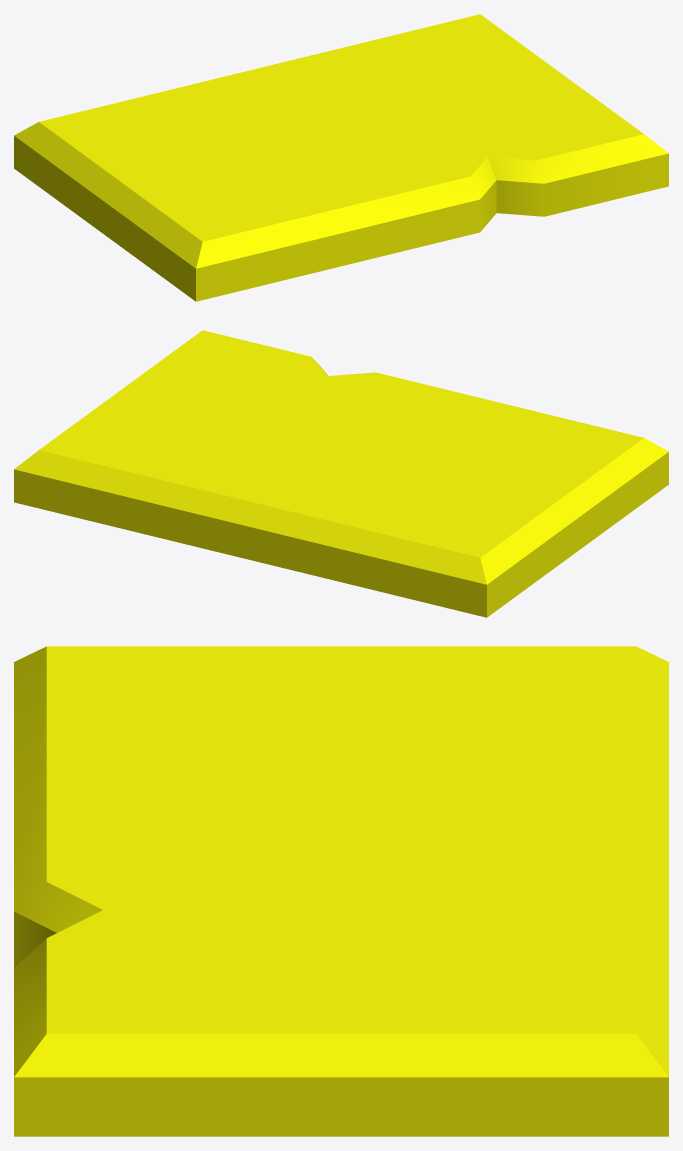
Rendered from kaykit-cuttingboard.glb.
3 renders of one model, top to bottom at view 1: azimuth 30°, elevation 25°; view 2: azimuth 150°, elevation 25°; view 3: azimuth 270°, elevation 25°, orthographic. The views are drawn at different scales.
Parts seen in each view (by area): view 1: cuttingboard; view 2: cuttingboard; view 3: cuttingboard.
Part boxes in pixels (box(x1,y1,x2,y2)): cuttingboard: box(14, 14, 668, 301); cuttingboard: box(14, 330, 668, 617); cuttingboard: box(14, 646, 668, 1136).
Bounding box in the file's own units: 1.5 × 0.15 × 1.
